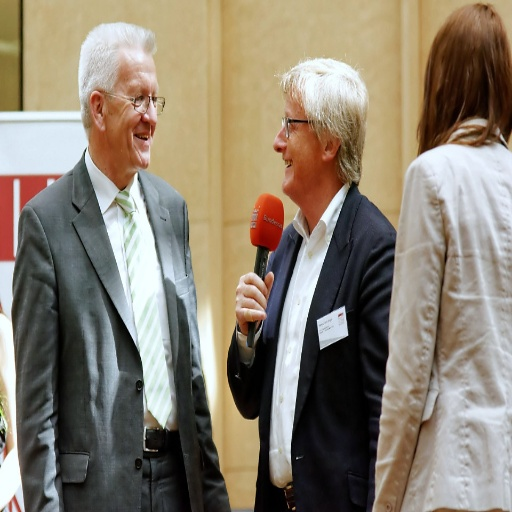hand: (234, 275, 272, 341)
